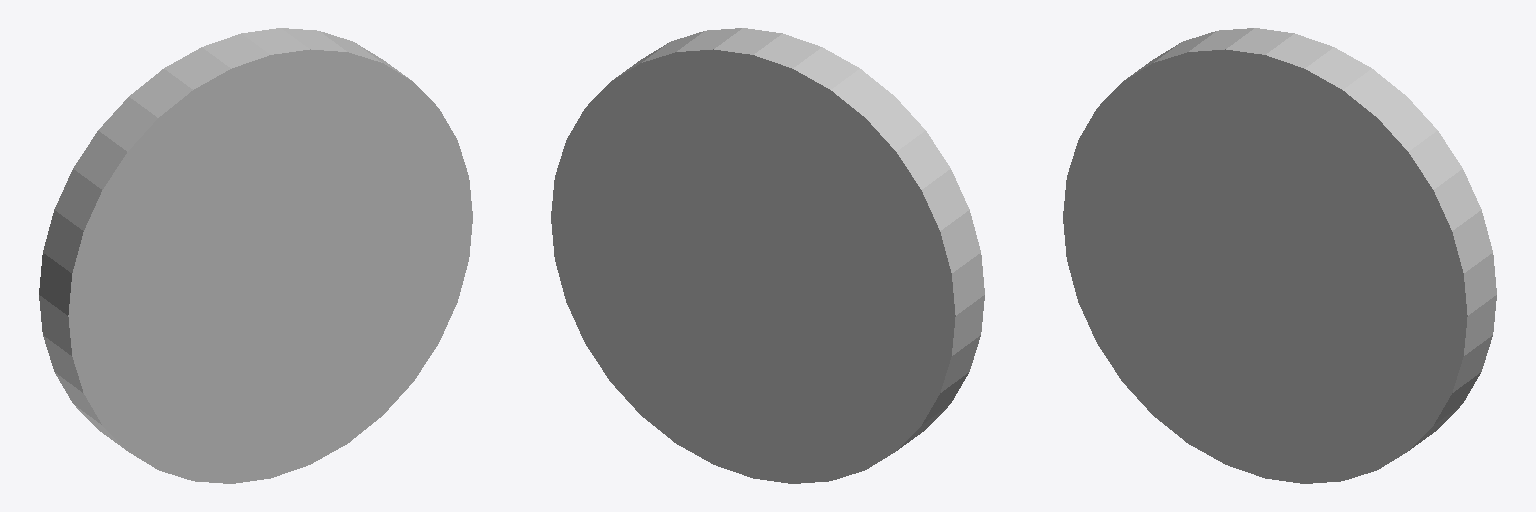
Rendered from balloon_coin.obj.
3 views of the same model, side by side, from view 1: azimuth 30°, elevation 25°; view 2: azimuth 150°, elevation 25°; view 3: azimuth 330°, elevation 25° (orthographic).
Visible parts, largest first — view 1: Cylinder; view 2: Cylinder; view 3: Cylinder.
Part boxes in pixels (bbox=[...]): Cylinder: bbox=[39, 28, 472, 483]; Cylinder: bbox=[551, 28, 984, 483]; Cylinder: bbox=[1063, 28, 1496, 483].
Size of the model in its own units: 2 by 2 by 0.2525.